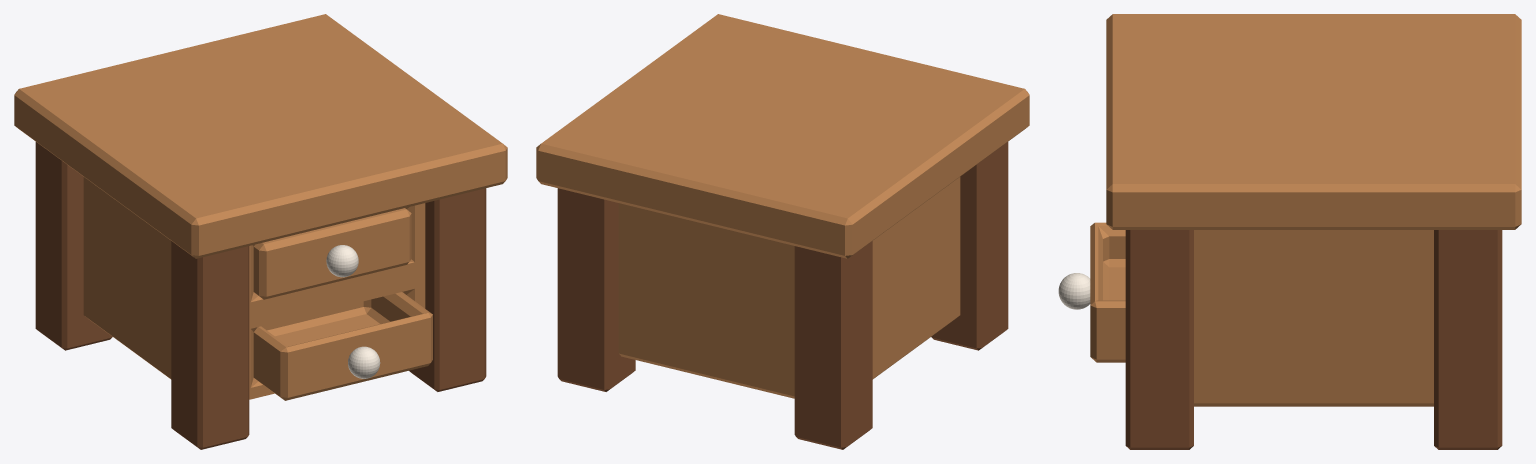
The model's file is Mesita.fbx.
3 renders of one model, left to right at view 1: azimuth 30°, elevation 25°; view 2: azimuth 150°, elevation 25°; view 3: azimuth 270°, elevation 25°, orthographic. The views are drawn at different scales.
Visible parts, largest first — view 1: Plane.008, Plane.009; view 2: Plane.008, Plane.009; view 3: Plane.008, Plane.009.
Boxes of the visible parts, box(x1,y1,x2,y2) form: Plane.008: box(14, 14, 507, 400); Plane.009: box(35, 142, 486, 449); Plane.008: box(536, 14, 1029, 398); Plane.009: box(557, 142, 1008, 449); Plane.008: box(1058, 14, 1521, 406); Plane.009: box(1125, 230, 1502, 449).
Bounding box in the file's own units: 45.89 × 33.29 × 51.2.
